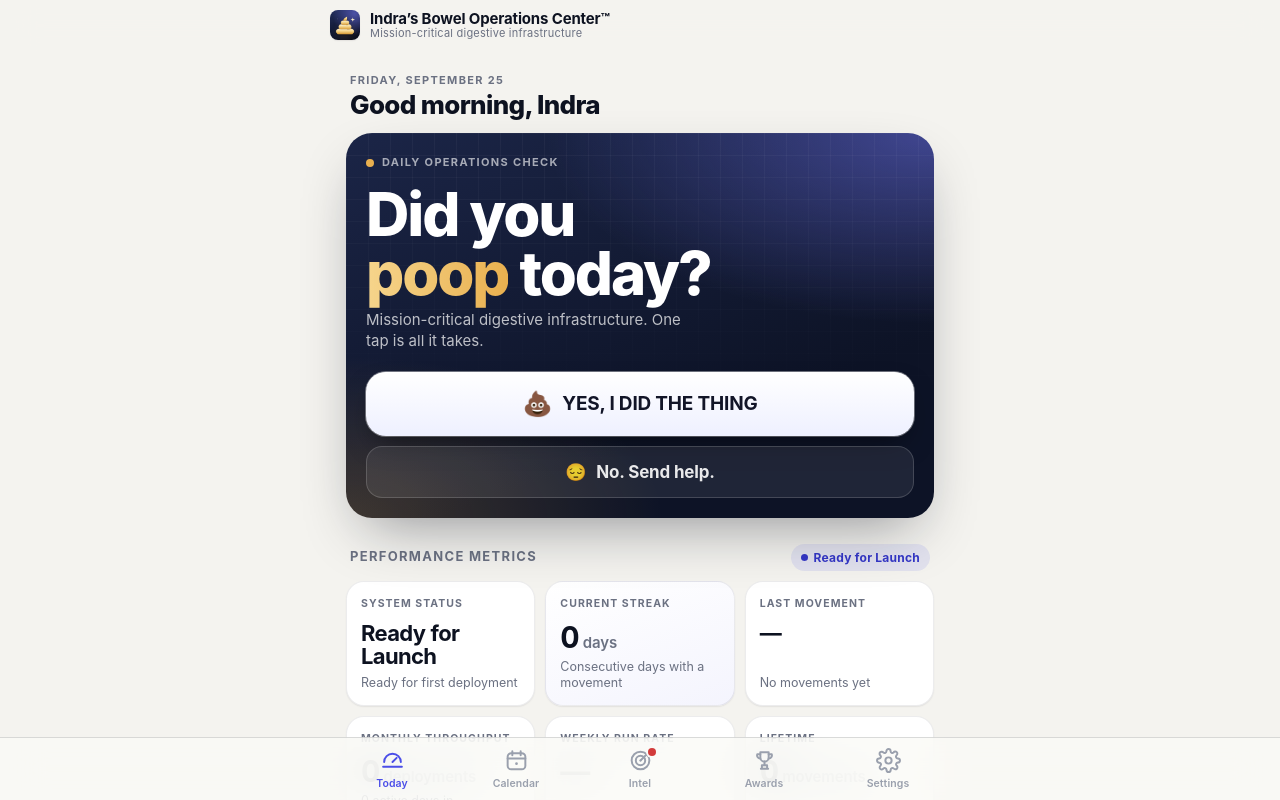
Test: Intel, Archive and Awards › shows unlocked and locked achievements
The width and height of the screenshot is (1280, 800).
Step 1. Click the button "💩 YES, I DID THE THING" → (640, 404), box [366,372,914,436]
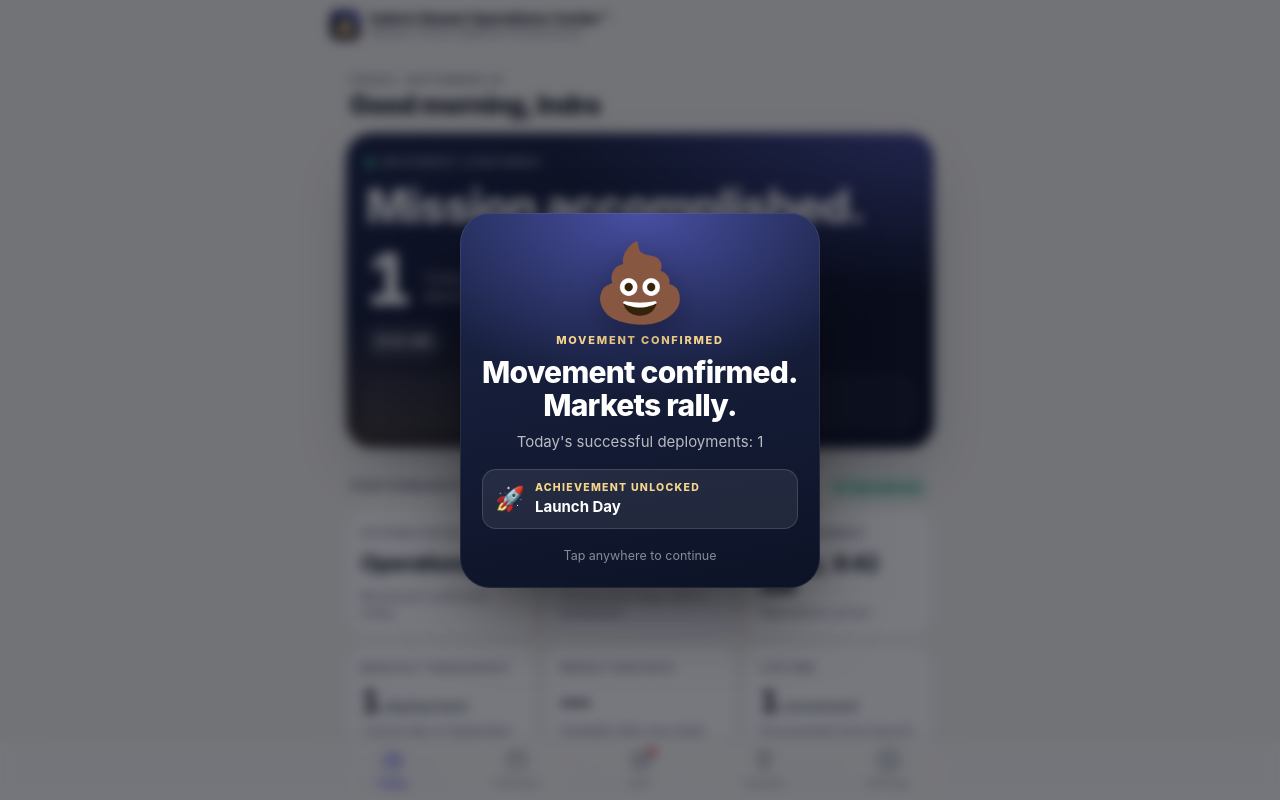
Step 2. Click the dialog with class "celebrate" → (77, 400), box [0,0,1279,799]
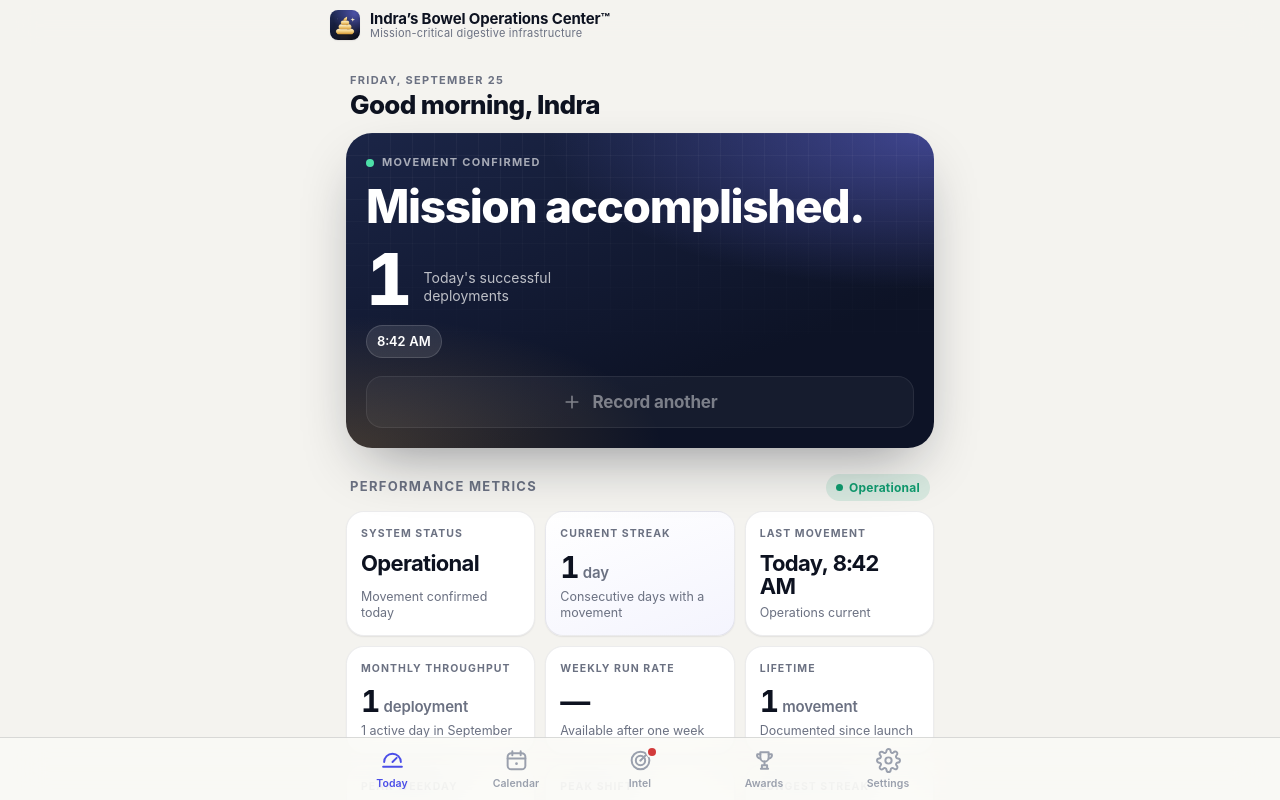
Step 3. Click the button "Awards" → (764, 769), box [702,744,826,794]
(page scrolled)
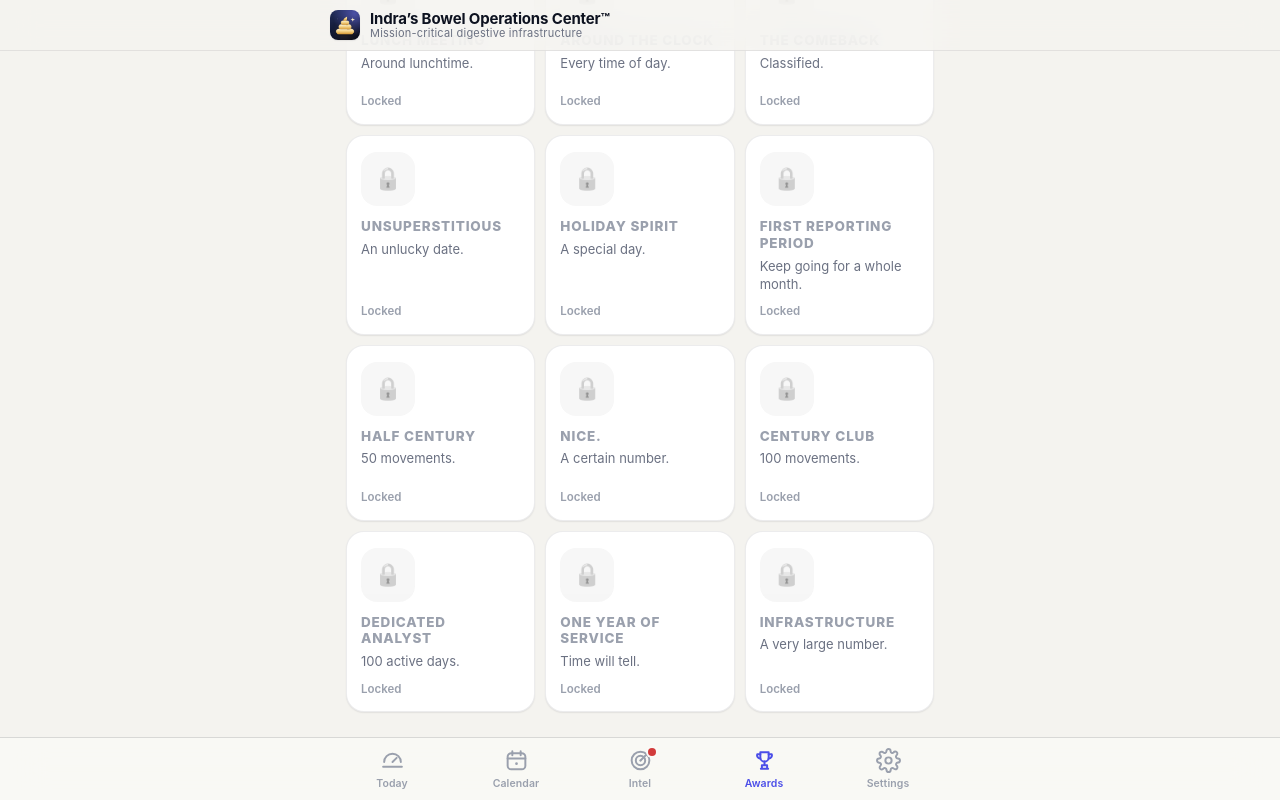
Now the element named "Century Club: locked" is shown, box [745,345,934,521]
